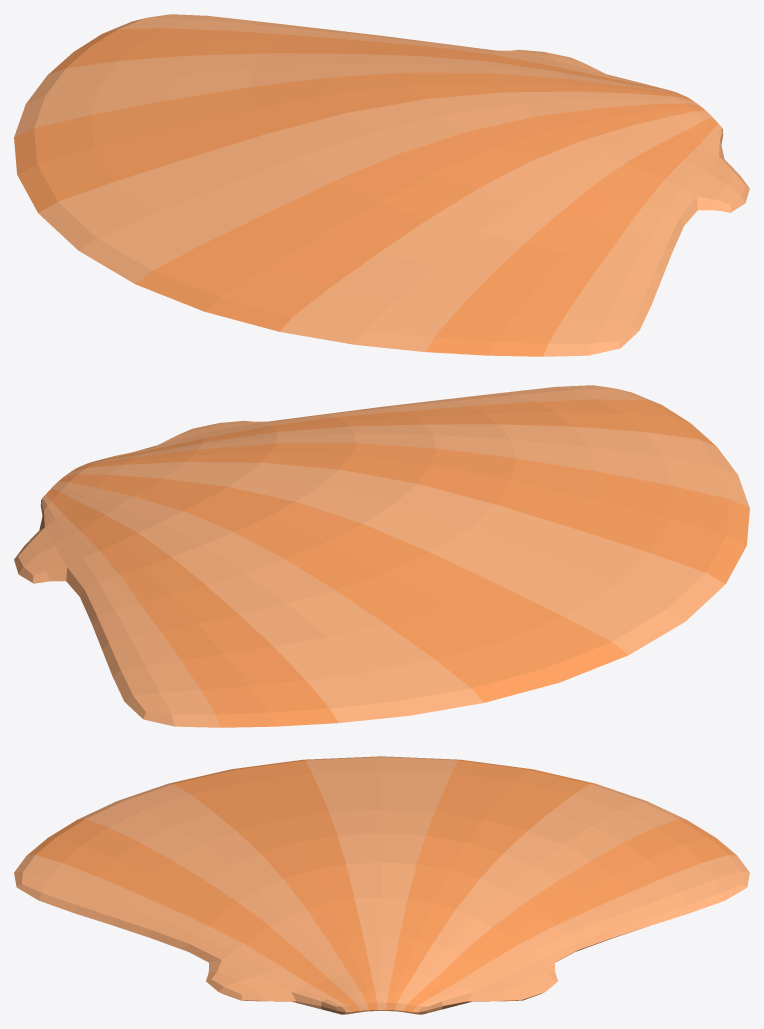
The model's file is shell2.fbx.
3 views of the same model, one above another, from view 1: azimuth 30°, elevation 25°; view 2: azimuth 150°, elevation 25°; view 3: azimuth 270°, elevation 25° (orthographic). The views are drawn at different scales.
Visible parts, largest first — view 1: Shell2; view 2: Shell2; view 3: Shell2.
Boxes of the visible parts, x1=… form: Shell2: x1=14, y1=14, x2=749, y2=356; Shell2: x1=14, y1=385, x2=749, y2=727; Shell2: x1=14, y1=756, x2=749, y2=1014.
Size of the model in its own units: 138 by 14.28 by 175.
